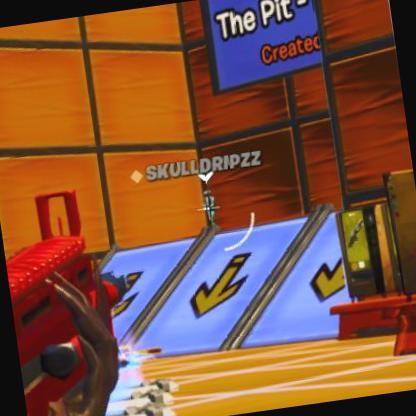person: (194, 186, 221, 232)
